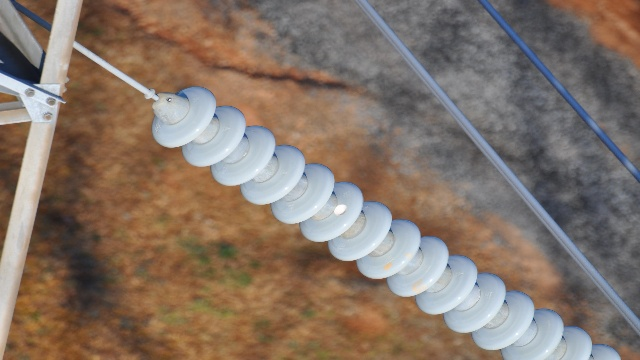broken_local: (329, 202, 349, 219)
insulator_unspecified: (153, 86, 623, 359)
